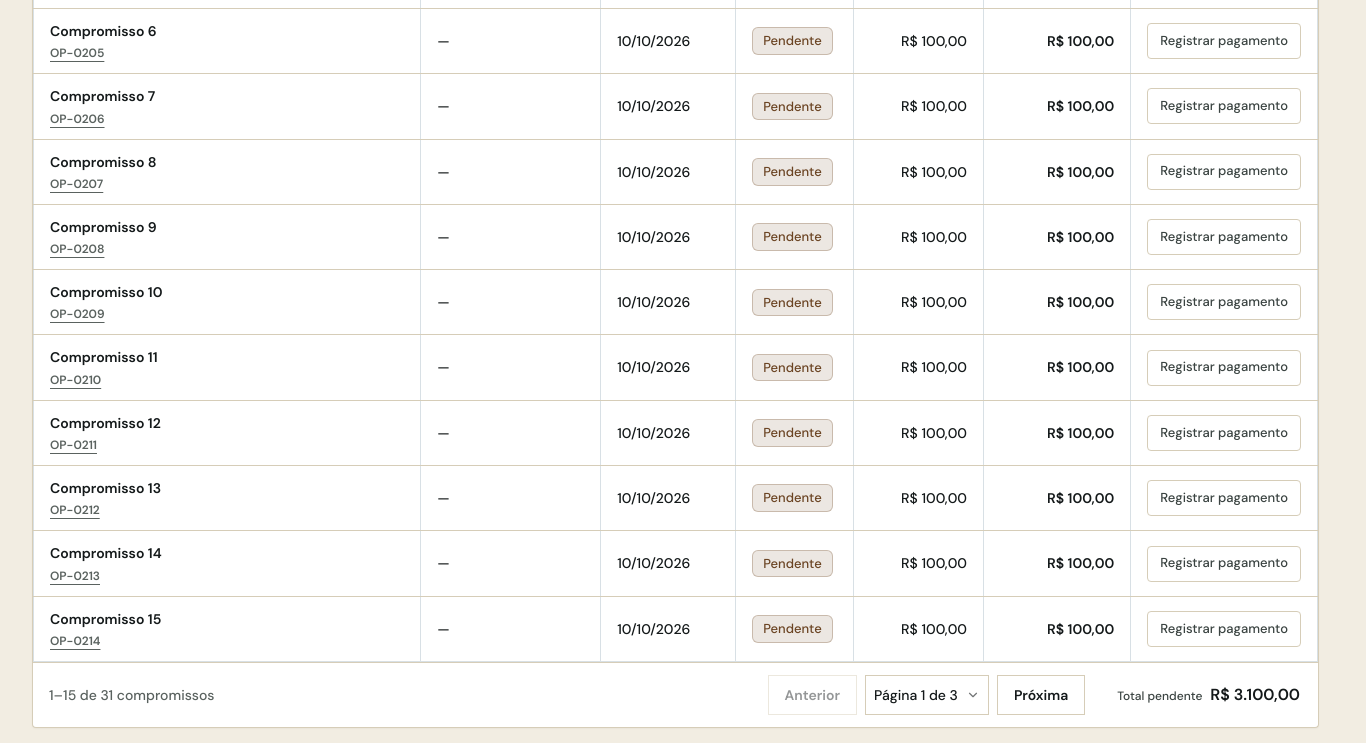
pagina compromissos após busca e filtros sem recortar os totais
(page scrolled)
Click the button "Próxima": point(1041, 695) [997,675,1085,715]
(page scrolled)
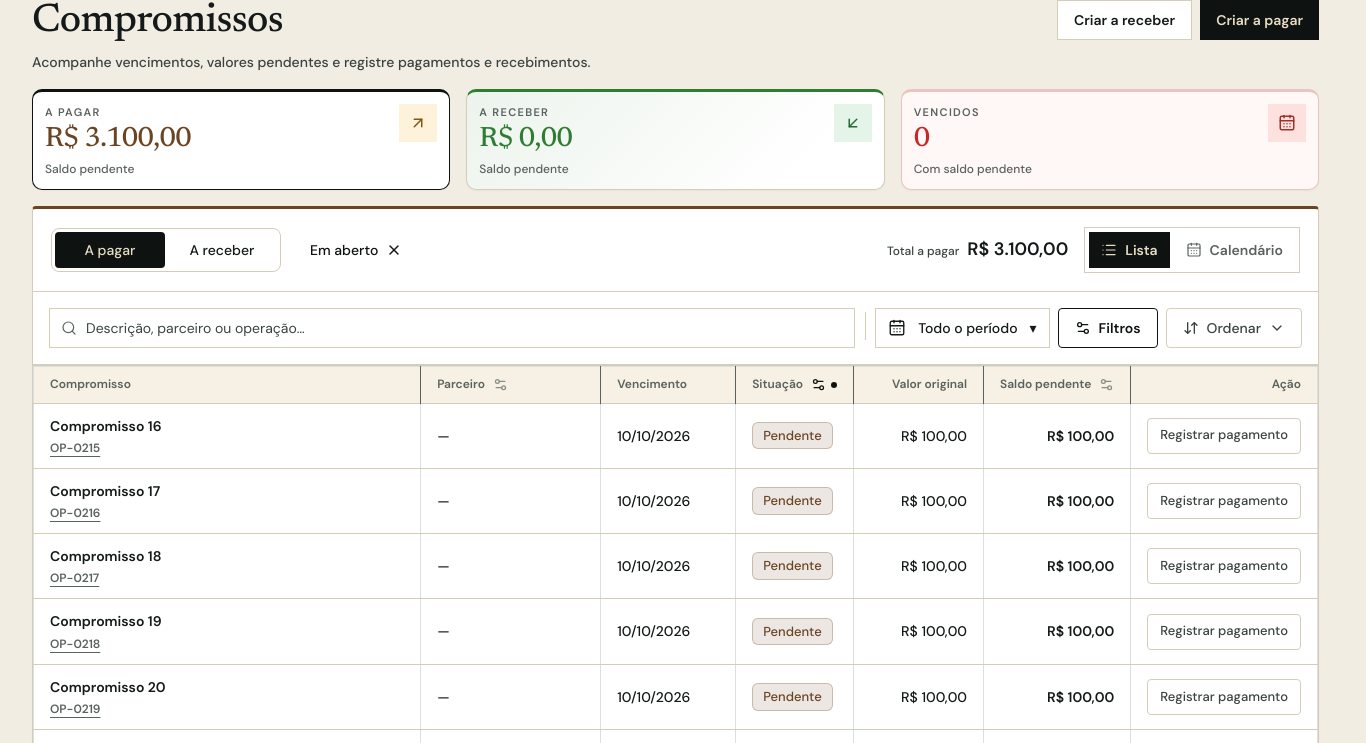
Result: the text "Compromisso 16" is shown at [50,416,162,434]
In the search field named "Buscar compromisso": point(452, 328) [49,308,855,348], type "OP-0230"
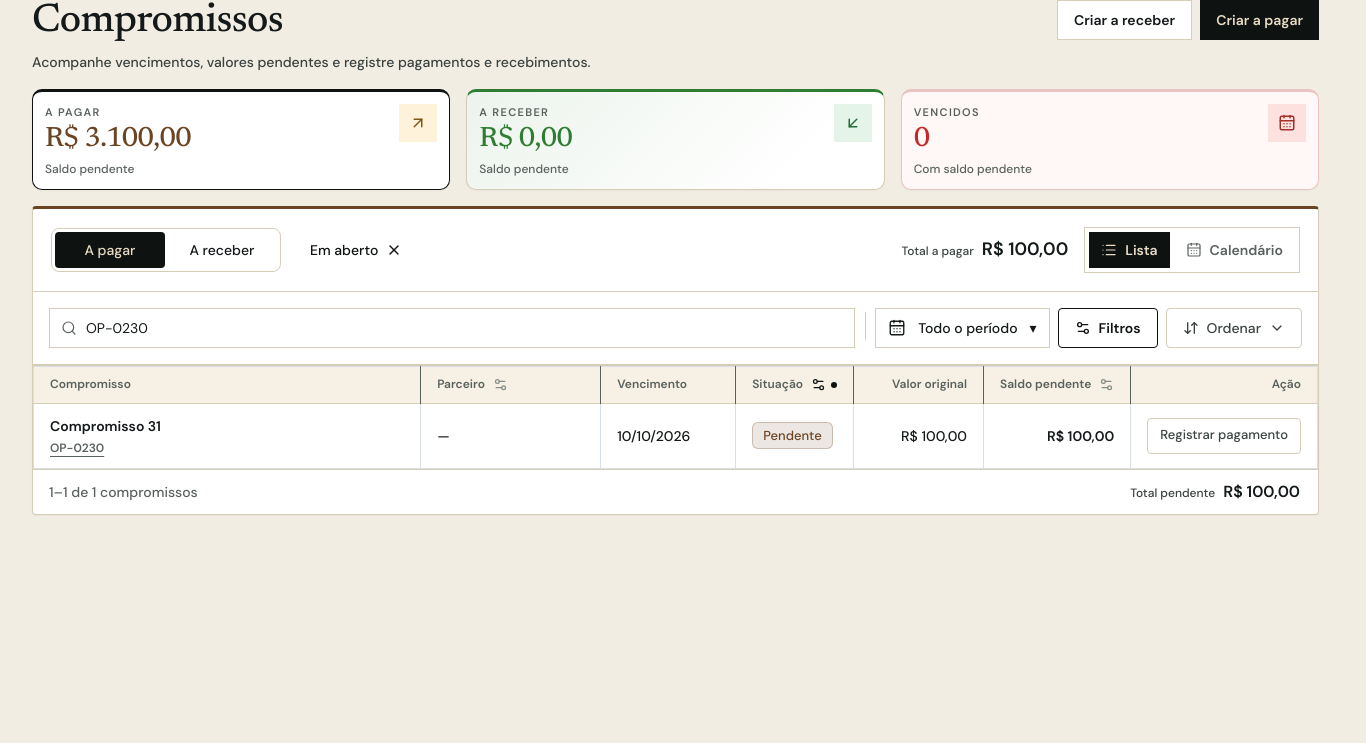
Result: the number of rows is 2 at [34,366,1318,403]; [34,404,1318,468]
Result: the text "Compromisso 31" is shown at [50,416,161,434]
Result: the navigation bar named "Paginação dos compromissos" shows "1–1 de 1" at [49,483,198,501]
